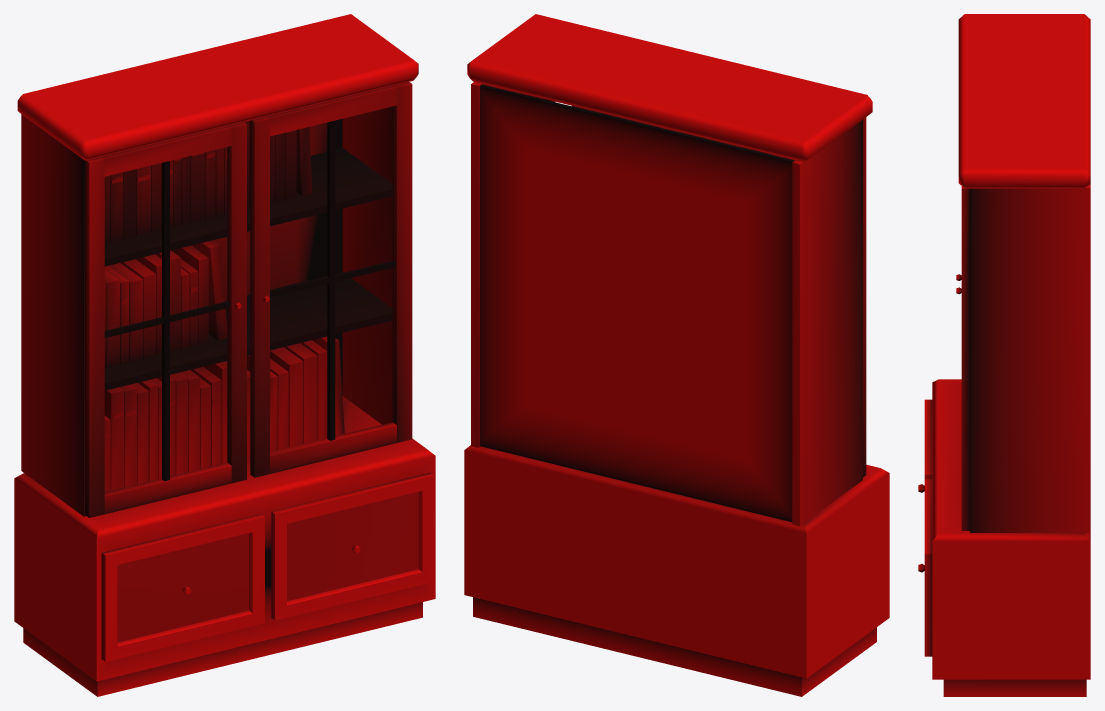
Rendered from CI_Office_Bookcase_Glazed_LOD0.glb.
3 views of the same model, side by side, from view 1: azimuth 30°, elevation 25°; view 2: azimuth 150°, elevation 25°; view 3: azimuth 270°, elevation 25° (orthographic). The views are drawn at different scales.
Parts seen in each view (by area): view 1: CI_Office_Bookcase_Glazed_LOD0; view 2: CI_Office_Bookcase_Glazed_LOD0; view 3: CI_Office_Bookcase_Glazed_LOD0.
Boxes of the visible parts, left/top/right/bottom form: CI_Office_Bookcase_Glazed_LOD0: left=14, top=14, right=435, bottom=696; CI_Office_Bookcase_Glazed_LOD0: left=464, top=14, right=889, bottom=696; CI_Office_Bookcase_Glazed_LOD0: left=918, top=14, right=1090, bottom=696.
Bounding box in the file's own units: 1 × 1.55 × 0.4568.
